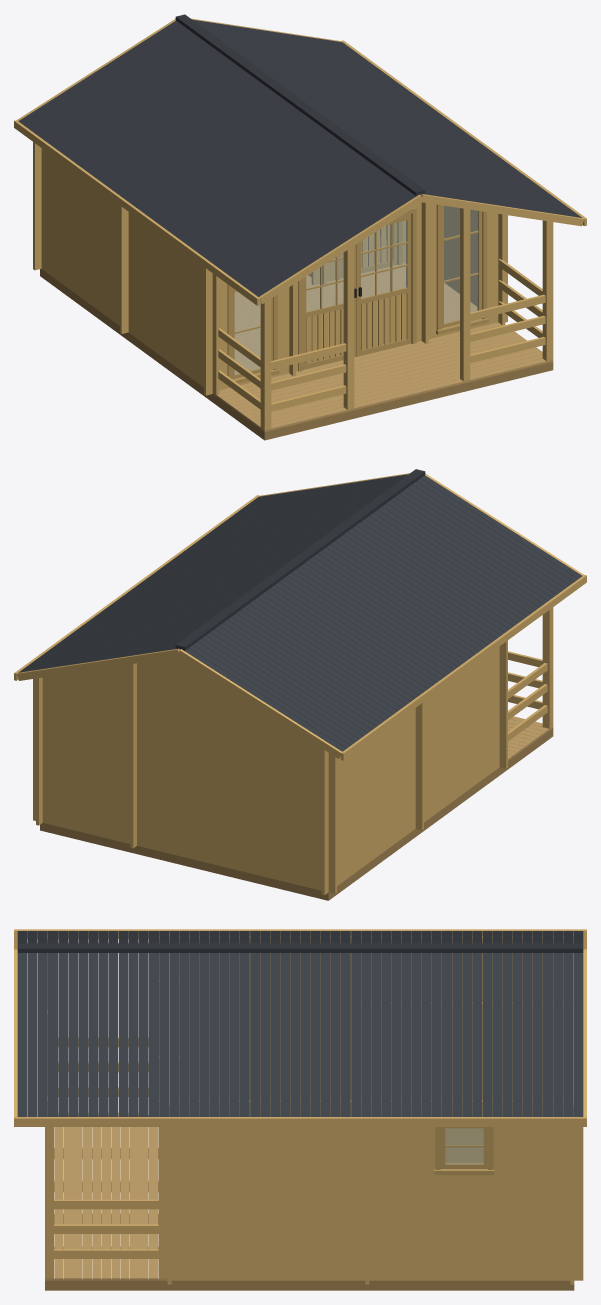
Rendered from апсны_4_5_4_5_44_мм_терраса_санузел.glb.
3 views of the same model, one above another, from view 1: azimuth 30°, elevation 25°; view 2: azimuth 150°, elevation 25°; view 3: azimuth 270°, elevation 25° (orthographic). The views are drawn at different scales.
Parts seen in each view (by area): view 1: roof, walls, terrace, house, floor, object 58, object 33, object 47, object 15, object 41, object 21, object 61 (+3 smaller); view 2: roof, walls, house, terrace; view 3: roof, walls, terrace, house, object 91.
Part boxes in pixels (x1,y1,x2,y2): roof: [14, 14, 586, 305]; walls: [33, 142, 507, 395]; terrace: [212, 208, 553, 431]; house: [40, 269, 553, 440]; floor: [234, 233, 477, 373]; object 58: [444, 206, 477, 323]; object 33: [361, 220, 406, 298]; object 47: [235, 292, 260, 374]; object 15: [306, 253, 343, 311]; object 41: [411, 207, 416, 343]; object 21: [406, 213, 411, 344]; object 61: [436, 204, 441, 330]; roof: [14, 469, 586, 760]; walls: [33, 640, 507, 895]; house: [40, 728, 553, 900]; terrace: [508, 607, 553, 760]; roof: [14, 929, 586, 1126]; walls: [158, 932, 583, 1284]; terrace: [45, 935, 167, 1280]; house: [45, 1115, 574, 1290]; object 91: [445, 1128, 483, 1163].
Bounding box in the file's own units: 4.91 × 3.16 × 6.28.
